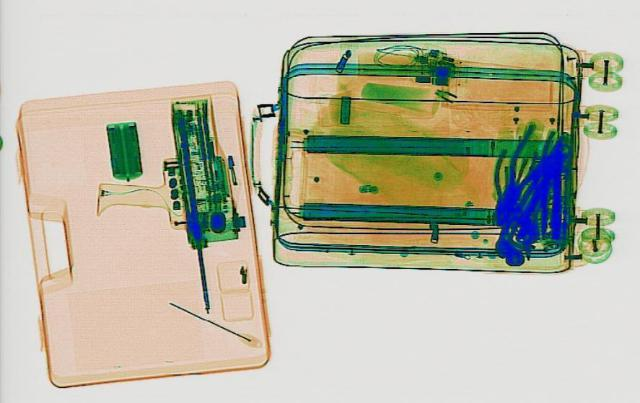Pliers: (486, 122, 560, 211), (478, 147, 540, 222)
